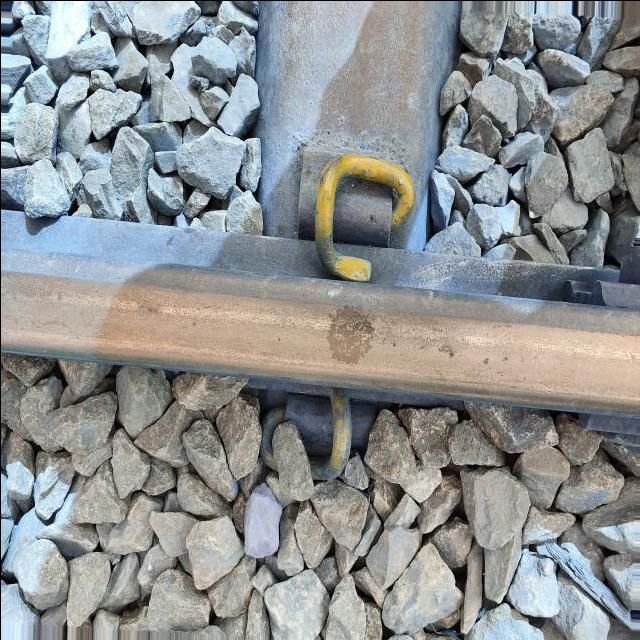squats_high: (324, 302, 374, 366), (480, 352, 509, 366), (435, 342, 455, 358), (390, 337, 398, 347), (56, 291, 61, 299)
